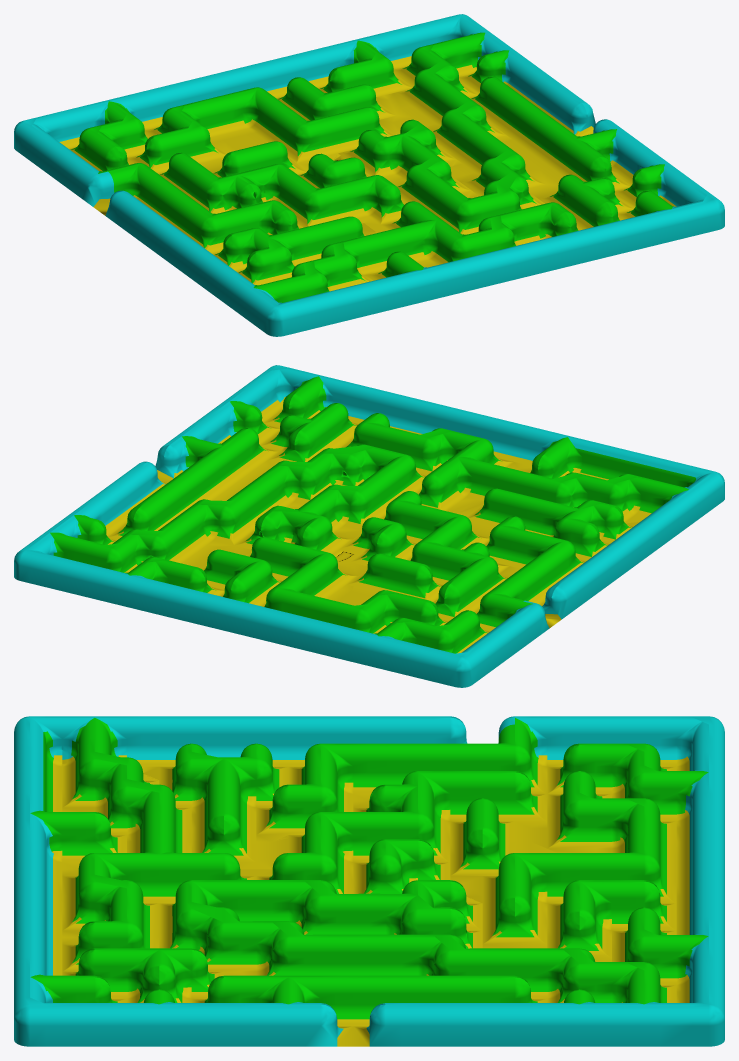
File: Maze2.obj
3 views of the same model, one above another, from view 1: azimuth 30°, elevation 25°; view 2: azimuth 150°, elevation 25°; view 3: azimuth 270°, elevation 25° (orthographic). The views are drawn at different scales.
Visible parts, largest first — view 1: group_ME_Plane; view 2: group_ME_Plane; view 3: group_ME_Plane.
Part boxes in pixels (box(x1,y1,x2,y2)): group_ME_Plane: box(14, 14, 724, 336); group_ME_Plane: box(14, 365, 724, 687); group_ME_Plane: box(14, 716, 724, 1046).
Bounding box in the file's own units: 12 × 0.6598 × 12.
